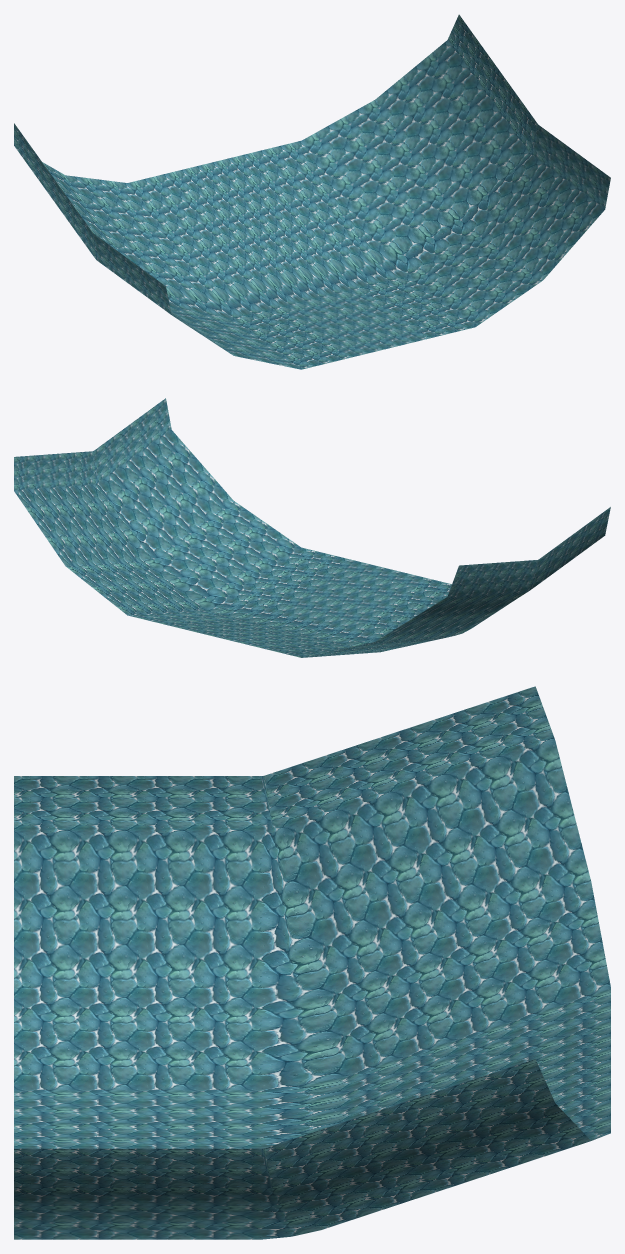
Rendered from plane_goes_straight.FBX.
3 renders of one model, top to bottom at view 1: azimuth 30°, elevation 25°; view 2: azimuth 150°, elevation 25°; view 3: azimuth 270°, elevation 25°, orthographic. The views are drawn at different scales.
Visible parts, largest first — view 1: Plane001; view 2: Plane001; view 3: Plane001.
Part boxes in pixels (bbox=[...]): Plane001: bbox=[14, 14, 610, 369]; Plane001: bbox=[14, 398, 610, 657]; Plane001: bbox=[14, 686, 610, 1239].
Size of the model in its own units: 90.55 by 32.81 by 61.3.
1 material, 1 textured.
